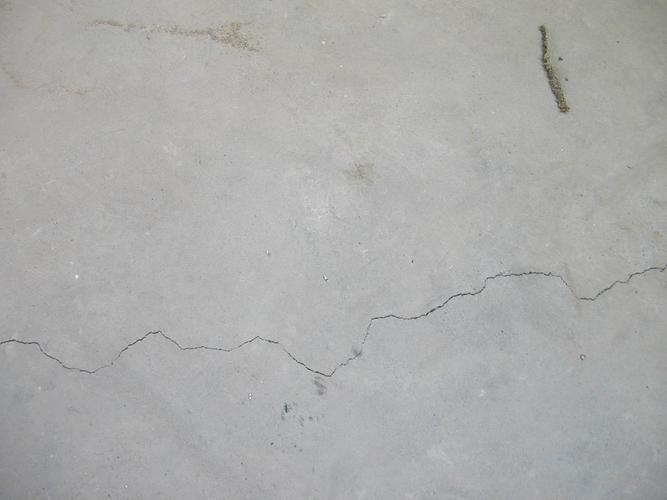Crack: (1, 264, 667, 378)
Spalling: (538, 25, 571, 114)
